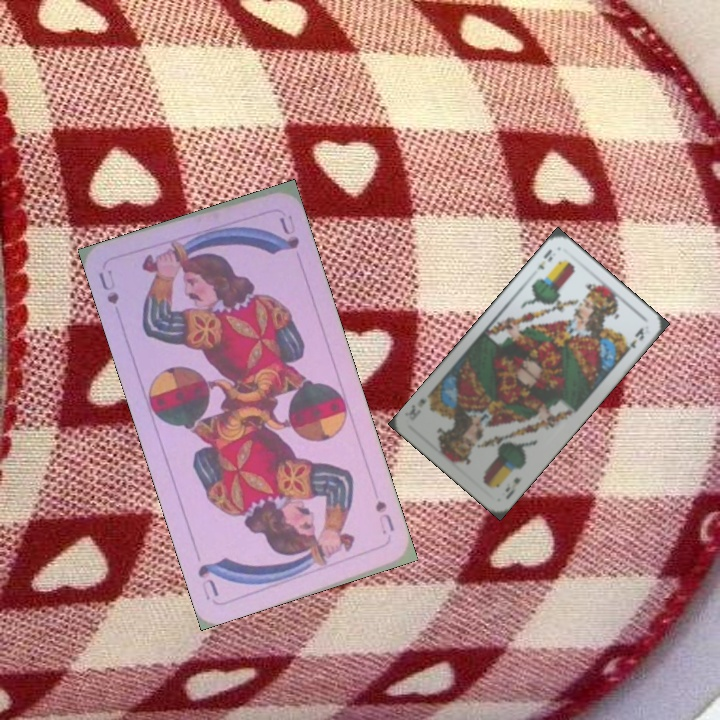EK: (527, 245, 555, 277), (501, 473, 523, 502)
SU: (94, 265, 122, 307), (371, 497, 397, 537)
